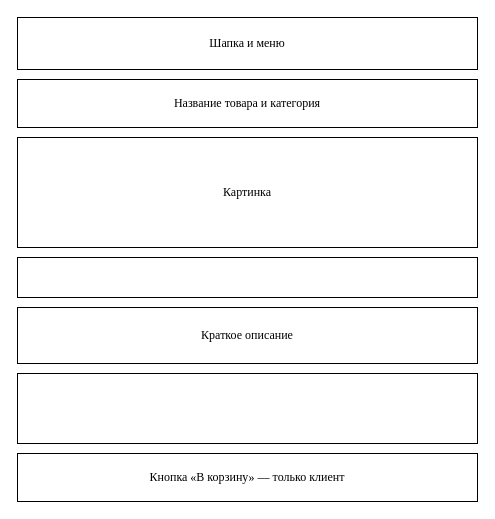
Image size: 495x519. Some labels were removed from this diagram. The shapes that lost their labels are listed below. From the top down, each one's centre as x and y in pixels, then its label:
the point at 247,277: Цена
the point at 247,408: Полное описание
